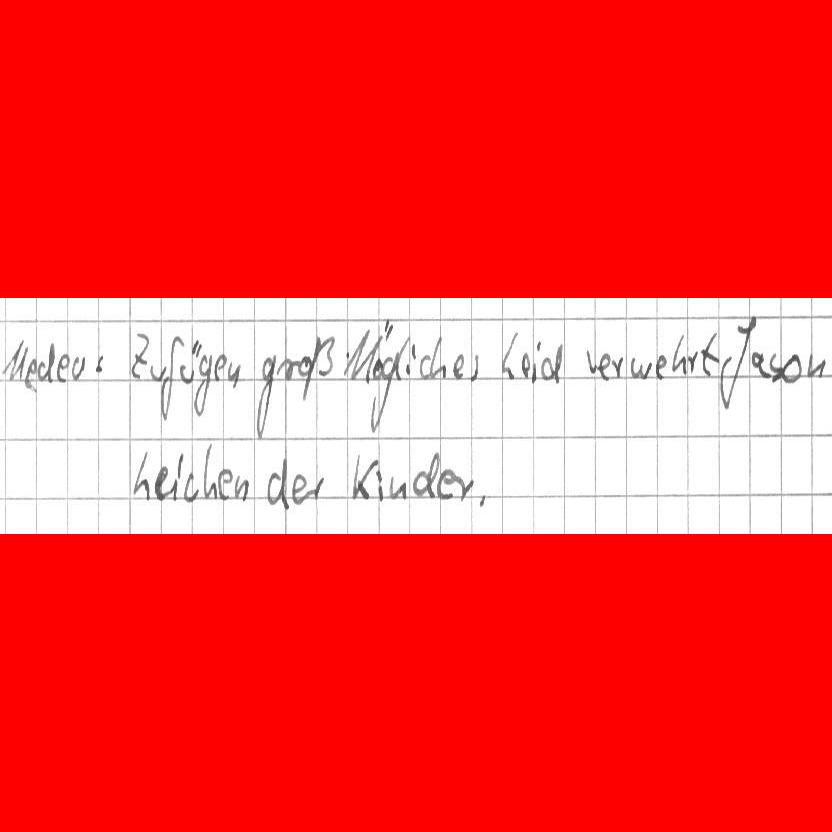Char: (722, 317, 752, 409), (369, 348, 397, 435), (305, 334, 335, 399), (255, 354, 277, 437), (158, 336, 178, 420), (344, 326, 369, 382), (265, 457, 290, 511), (192, 353, 213, 417), (412, 450, 439, 497), (352, 452, 376, 502), (179, 339, 200, 387), (129, 329, 148, 381), (201, 444, 218, 501), (501, 327, 519, 380), (131, 449, 150, 499), (3, 338, 25, 381), (35, 342, 57, 383), (700, 333, 719, 377), (670, 331, 686, 379), (546, 341, 564, 383), (429, 336, 446, 379), (170, 452, 184, 502), (781, 352, 801, 386), (153, 465, 171, 500), (805, 353, 829, 379), (275, 356, 299, 382), (290, 472, 307, 507), (630, 355, 652, 382), (750, 350, 769, 379), (386, 474, 407, 500), (183, 470, 199, 503), (227, 358, 244, 389), (308, 472, 325, 503), (439, 468, 455, 500), (233, 473, 250, 502), (531, 340, 542, 384), (218, 469, 233, 501), (768, 351, 782, 384), (457, 475, 475, 500), (467, 352, 483, 380), (404, 344, 416, 381), (597, 351, 611, 382), (56, 352, 70, 383), (24, 356, 37, 389), (655, 350, 669, 380), (452, 352, 467, 380), (583, 349, 596, 377), (610, 354, 624, 380), (148, 363, 167, 382), (71, 356, 85, 380), (215, 354, 226, 384), (418, 352, 430, 379), (94, 352, 106, 378), (297, 355, 311, 377), (687, 348, 698, 374), (521, 355, 532, 380), (375, 468, 383, 502), (476, 493, 489, 511)
